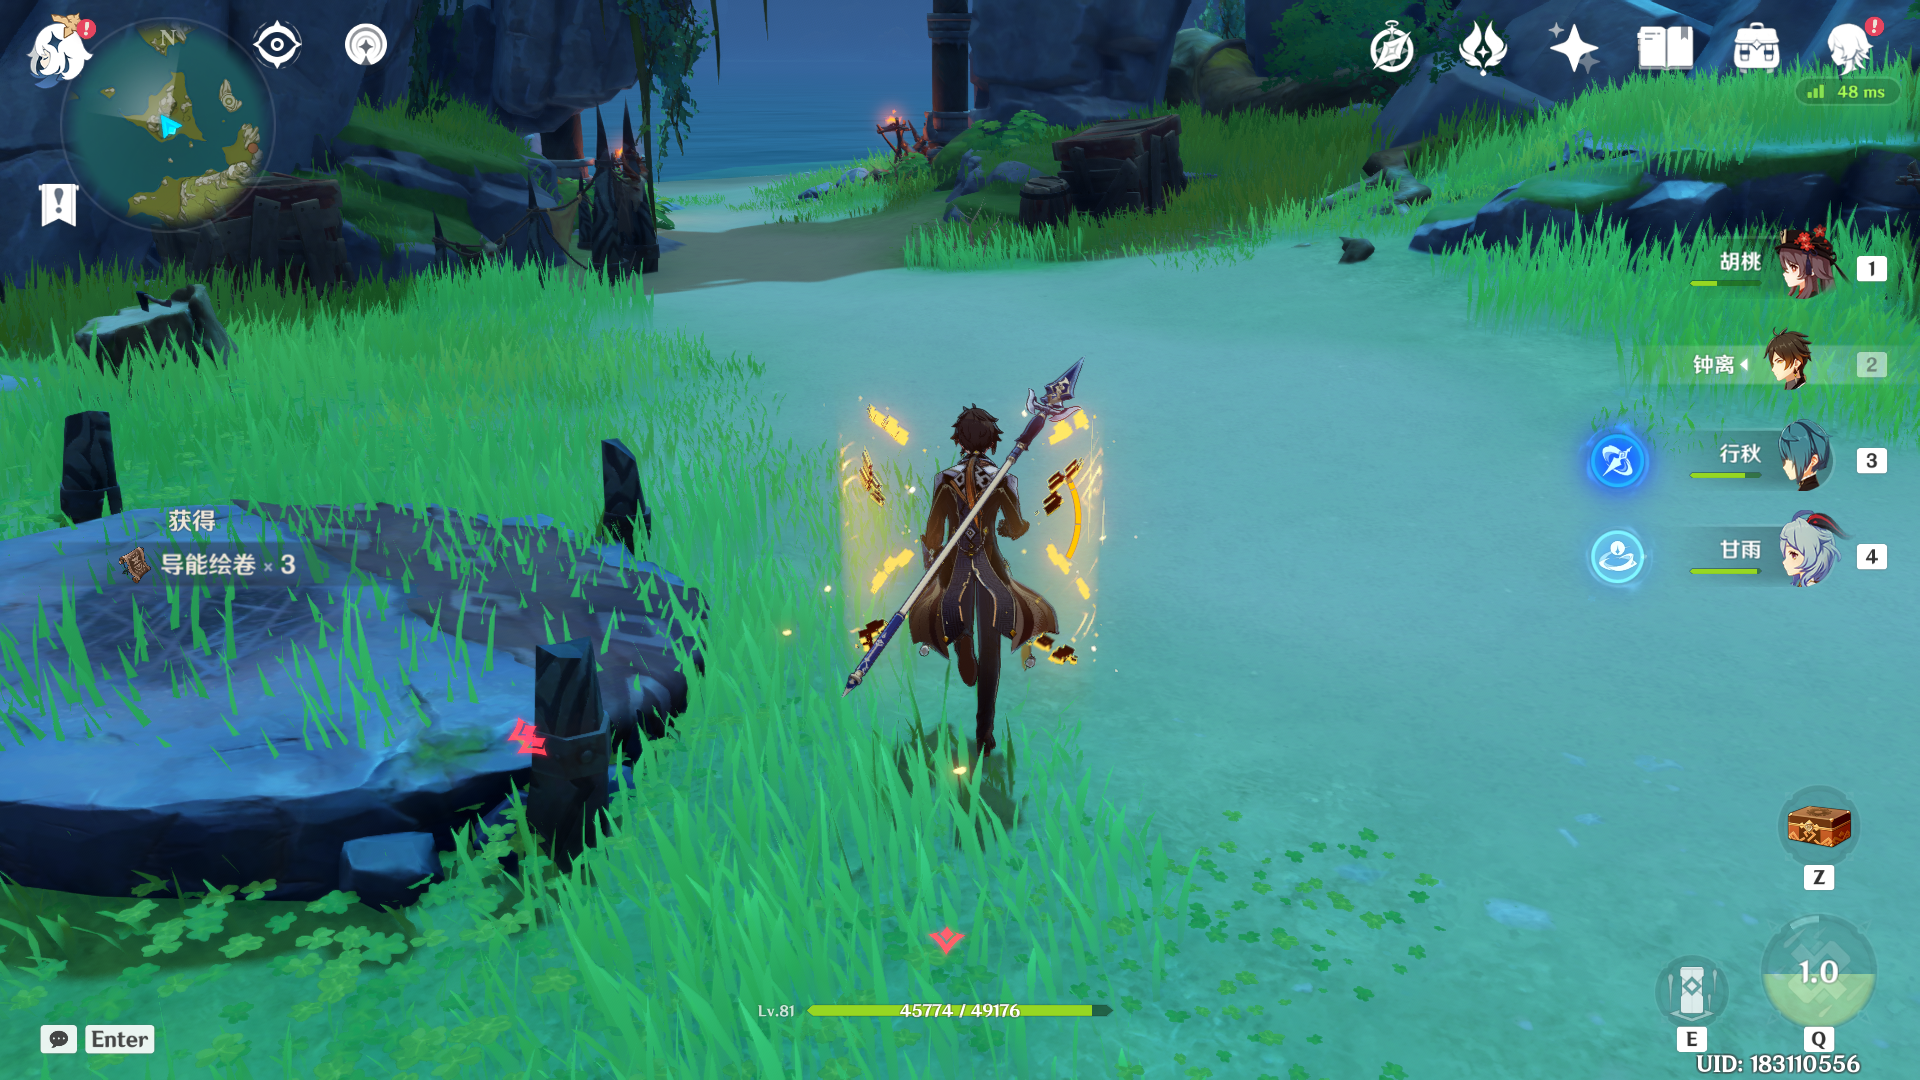character: (833, 381, 1101, 789)
